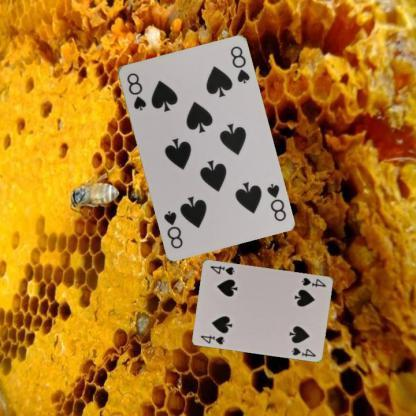4s: (299, 274, 328, 288), (198, 332, 226, 346)
8s: (264, 180, 288, 223), (124, 70, 147, 112)
